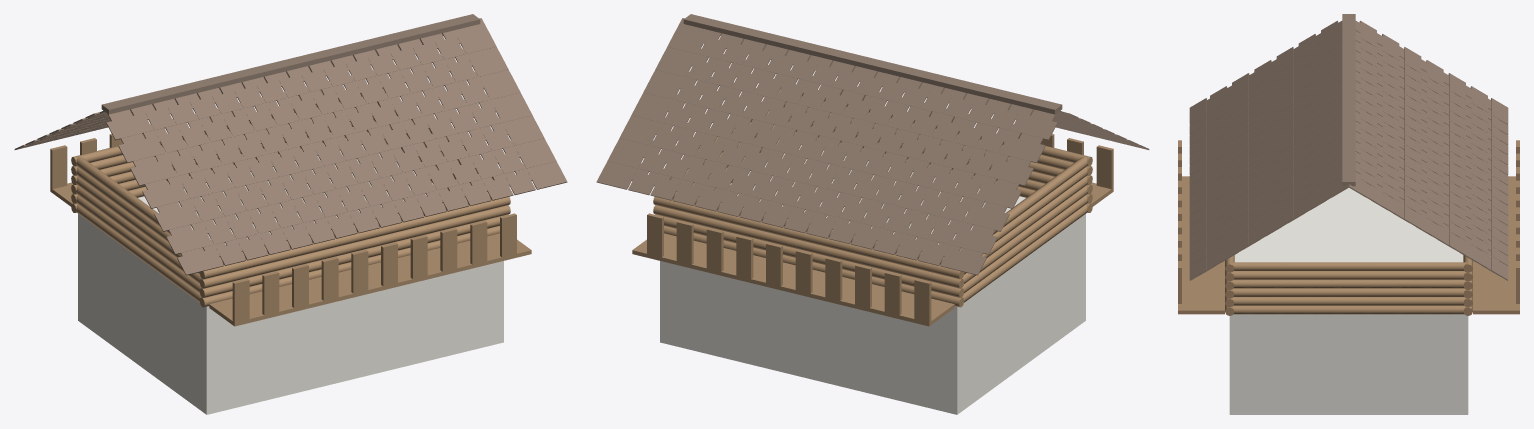
The model's file is chalet.gltf.
3 views of the same model, side by side, from view 1: azimuth 30°, elevation 25°; view 2: azimuth 150°, elevation 25°; view 3: azimuth 270°, elevation 25° (orthographic). The views are drawn at different scales.
Visible parts, largest first — view 1: chalet; view 2: chalet; view 3: chalet.
Boxes of the visible parts, x1,y1,x2,y2 form: chalet: (14,14,567,414); chalet: (596,14,1149,414); chalet: (1178,14,1519,414).
Size of the model in its own units: 10.26 by 6.94 by 8.6.
